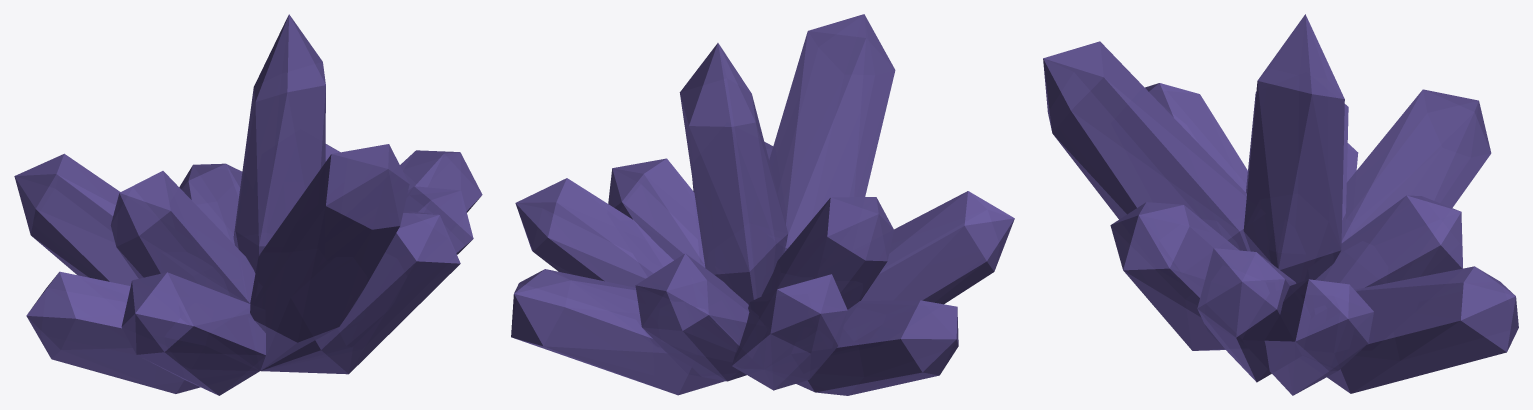
Rendered from purple_blue_crystal.fbx.
3 views of the same model, side by side, from view 1: azimuth 30°, elevation 25°; view 2: azimuth 150°, elevation 25°; view 3: azimuth 270°, elevation 25° (orthographic). The views are drawn at different scales.
Parts seen in each view (by area): view 1: pCylinder60; view 2: pCylinder60; view 3: pCylinder60.
Boxes of the visible parts, box(x1,y1,x2,y2) form: pCylinder60: box(14, 14, 482, 395); pCylinder60: box(511, 14, 1014, 395); pCylinder60: box(1043, 14, 1518, 395).
Size of the model in its own units: 5.93 by 4.35 by 5.25.
